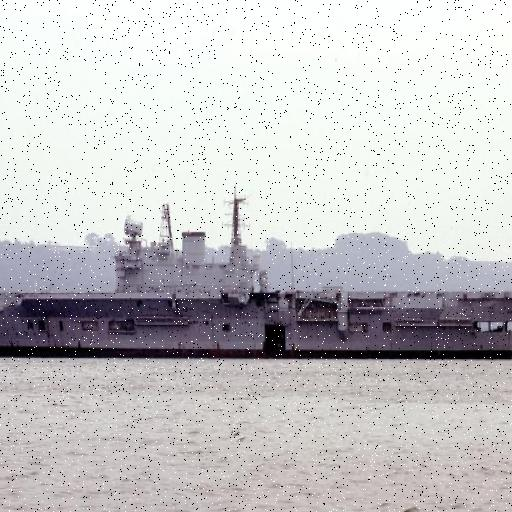Portanaves: (1, 179, 512, 363)
